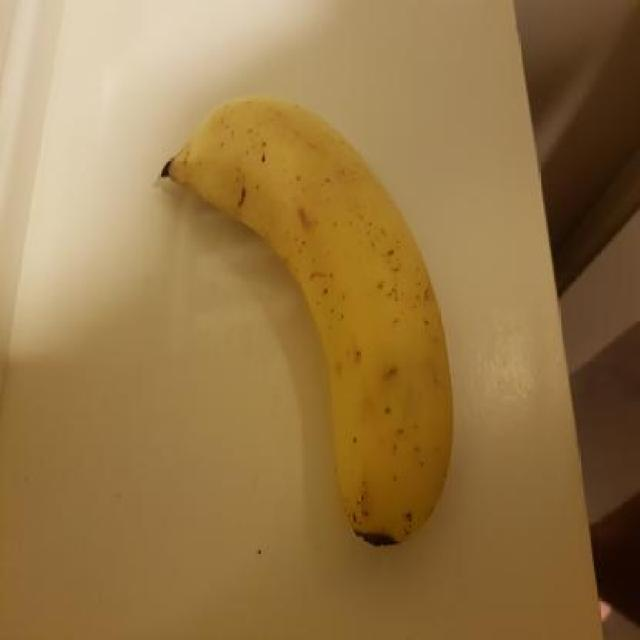banana: (148, 86, 456, 551)
